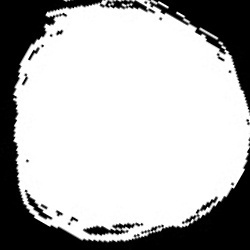spot: (14, 5, 250, 243)
